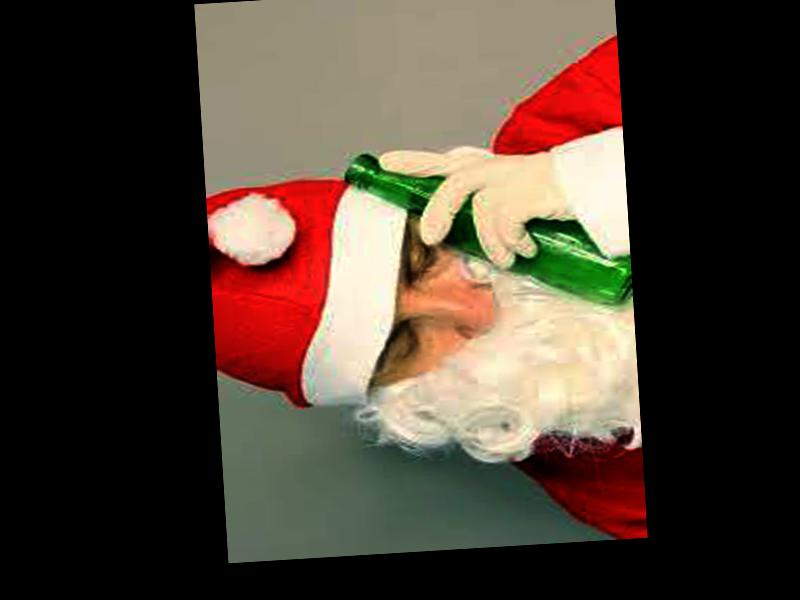Beer: (346, 136, 633, 317)
